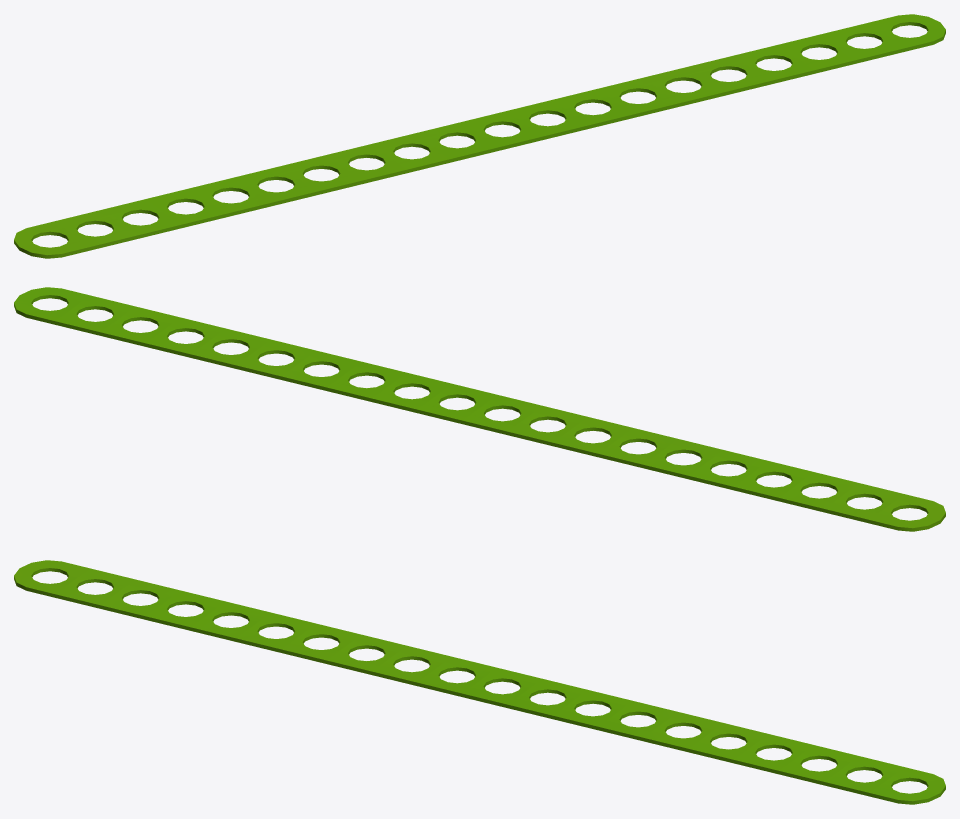
The model's file is TwentyLongGreen.fbx.
The picture shows the model from 3 angles, top to bottom: view 1: azimuth 30°, elevation 25°; view 2: azimuth 150°, elevation 25°; view 3: azimuth 330°, elevation 25°; orthographic projection.
Visible parts, largest first — view 1: Blue20; view 2: Blue20; view 3: Blue20.
Part boxes in pixels (x1,y1,x2,y2): Blue20: [14, 14, 945, 258]; Blue20: [14, 287, 945, 531]; Blue20: [14, 560, 945, 804].
Bounding box in the file's own units: 52.03 × 0.1942 × 3.45.
